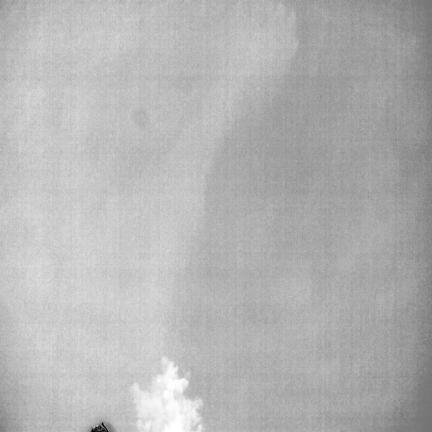flukeprints: (132, 358, 202, 431)
